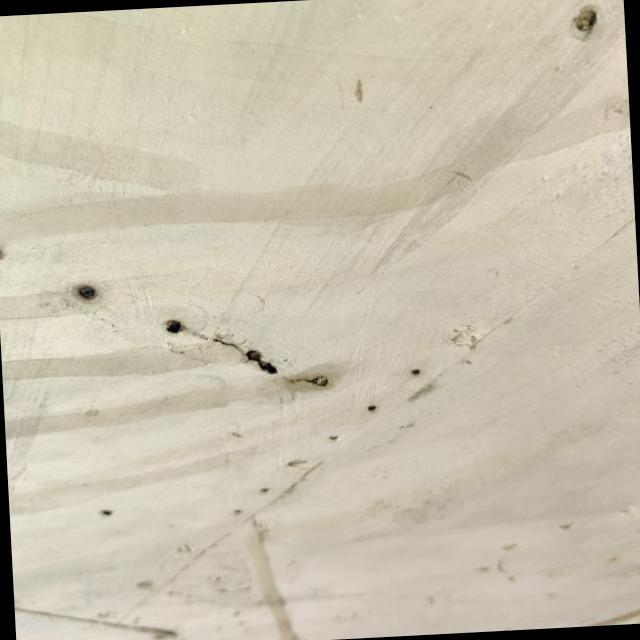crack: (144, 291, 346, 421)
